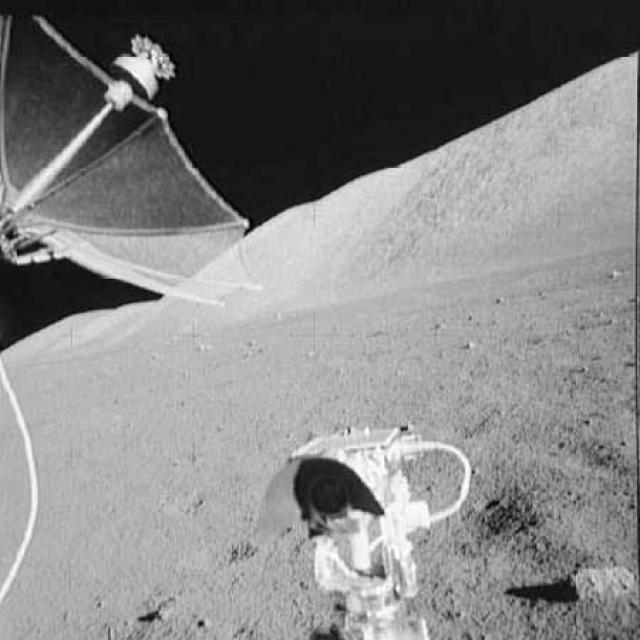artifact: (0, 8, 268, 316), (260, 419, 474, 639), (0, 365, 48, 604)
rock: (566, 556, 628, 602)
